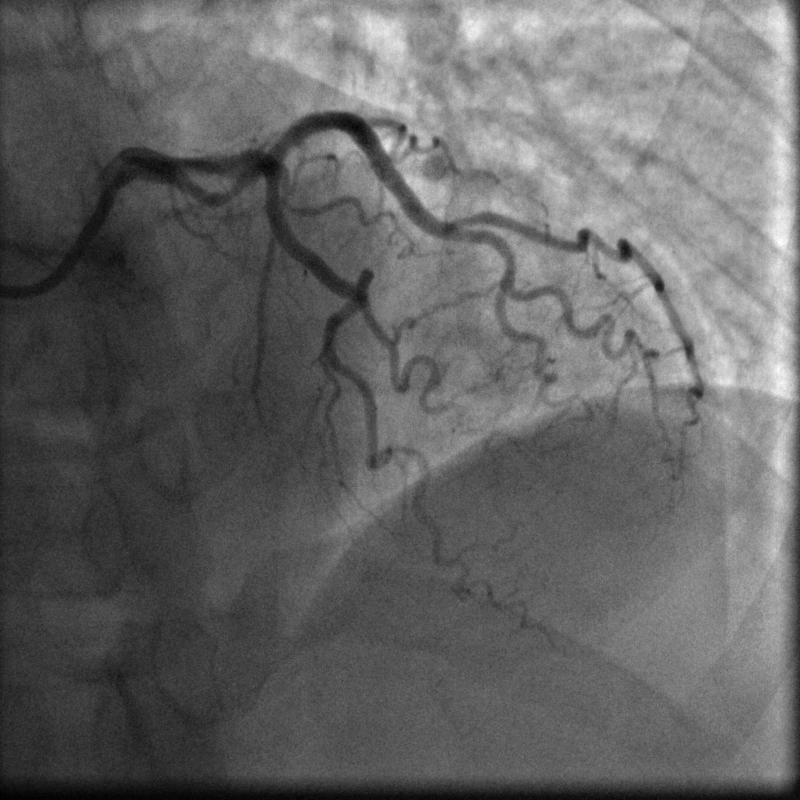Stenosis: (210, 180, 250, 202)
